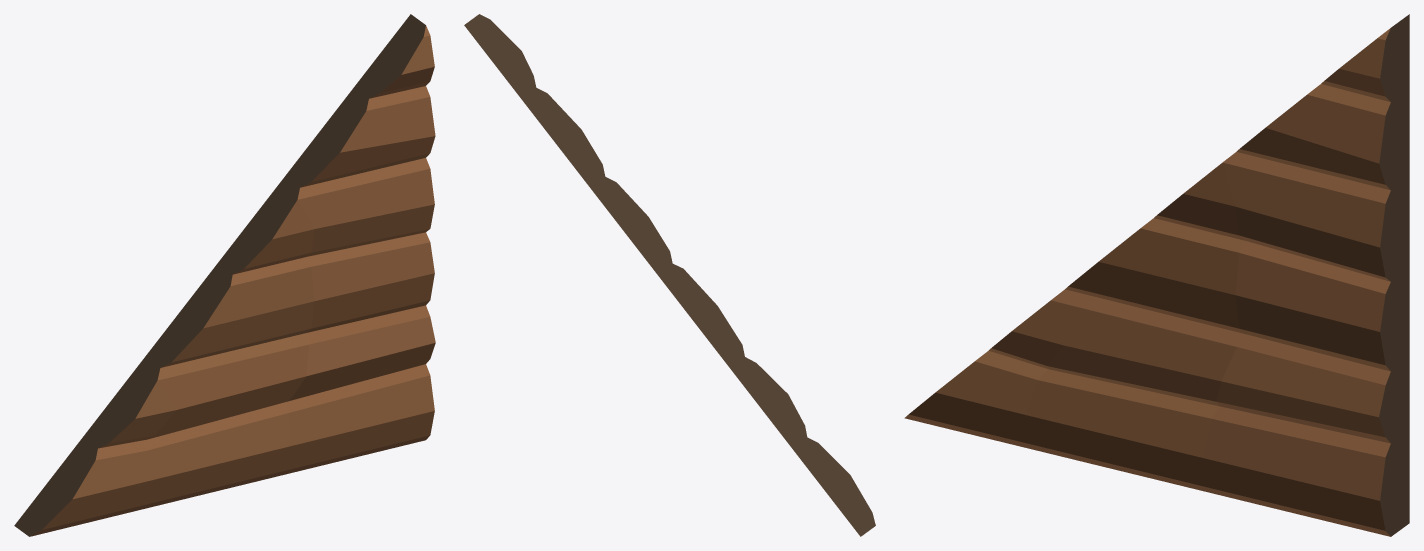
Rendered from buildings-wall-wood-horizontal-end-l-3x3m.glb.
3 renders of one model, left to right at view 1: azimuth 30°, elevation 25°; view 2: azimuth 150°, elevation 25°; view 3: azimuth 330°, elevation 25°, orthographic. The views are drawn at different scales.
Visible parts, largest first — view 1: wall-wood-horizontal-end-l-3x3m; view 2: wall-wood-horizontal-end-l-3x3m; view 3: wall-wood-horizontal-end-l-3x3m.
Boxes of the visible parts, x1,y1,x2,y2 form: wall-wood-horizontal-end-l-3x3m: (14, 14, 435, 536); wall-wood-horizontal-end-l-3x3m: (464, 14, 875, 536); wall-wood-horizontal-end-l-3x3m: (904, 14, 1409, 536).
Bounding box in the file's own units: 3 × 3 × 0.328.
